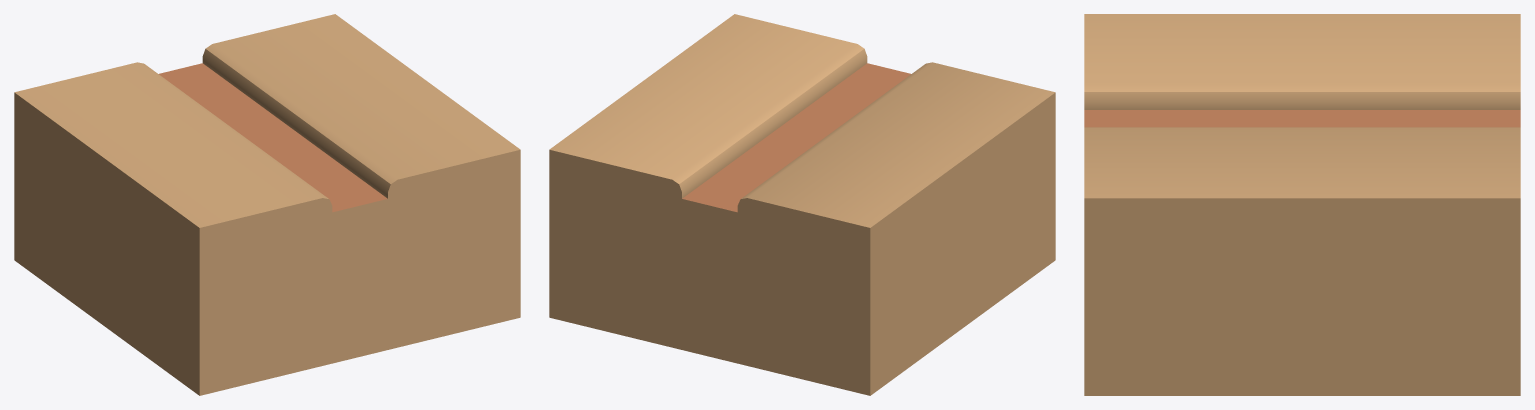
Rendered from square_sand_roadB.glb.
The picture shows the model from 3 angles, left to right: view 1: azimuth 30°, elevation 25°; view 2: azimuth 150°, elevation 25°; view 3: azimuth 270°, elevation 25°; orthographic projection. The views are drawn at different scales.
Parts seen in each view (by area): view 1: square_sand_roadB; view 2: square_sand_roadB; view 3: square_sand_roadB.
Part boxes in pixels (box(x1,y1,x2,y2)): square_sand_roadB: box(14, 14, 520, 395); square_sand_roadB: box(549, 14, 1055, 395); square_sand_roadB: box(1084, 14, 1520, 395).
Bounding box in the file's own units: 3.82 × 1.91 × 3.82.
